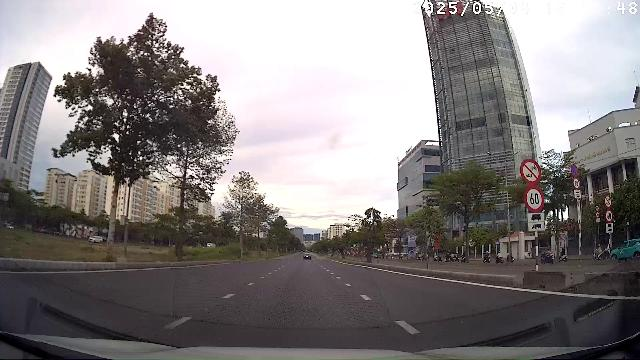127-toc-do-toi-da-60: (524, 186, 544, 212), (605, 210, 613, 222)
130-cam-dung-va-do-xe: (571, 164, 579, 176)
